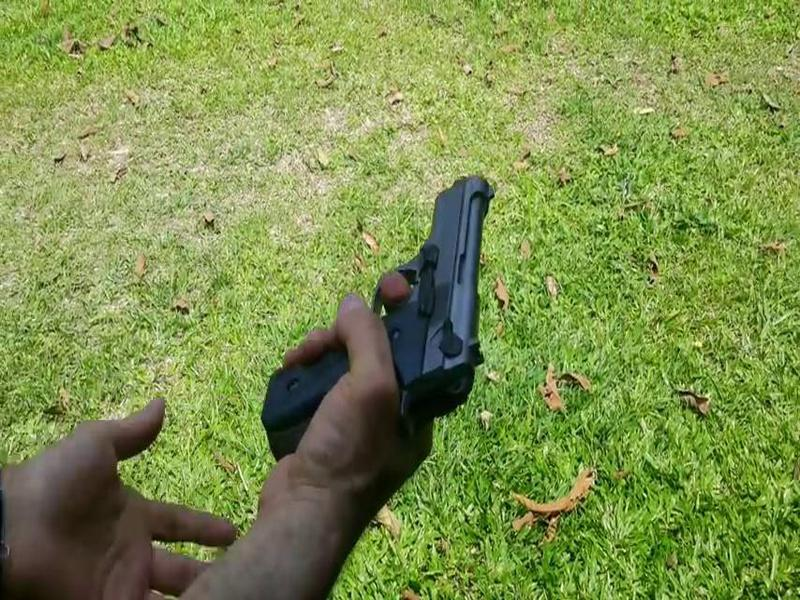Pistola: (267, 155, 505, 421)
